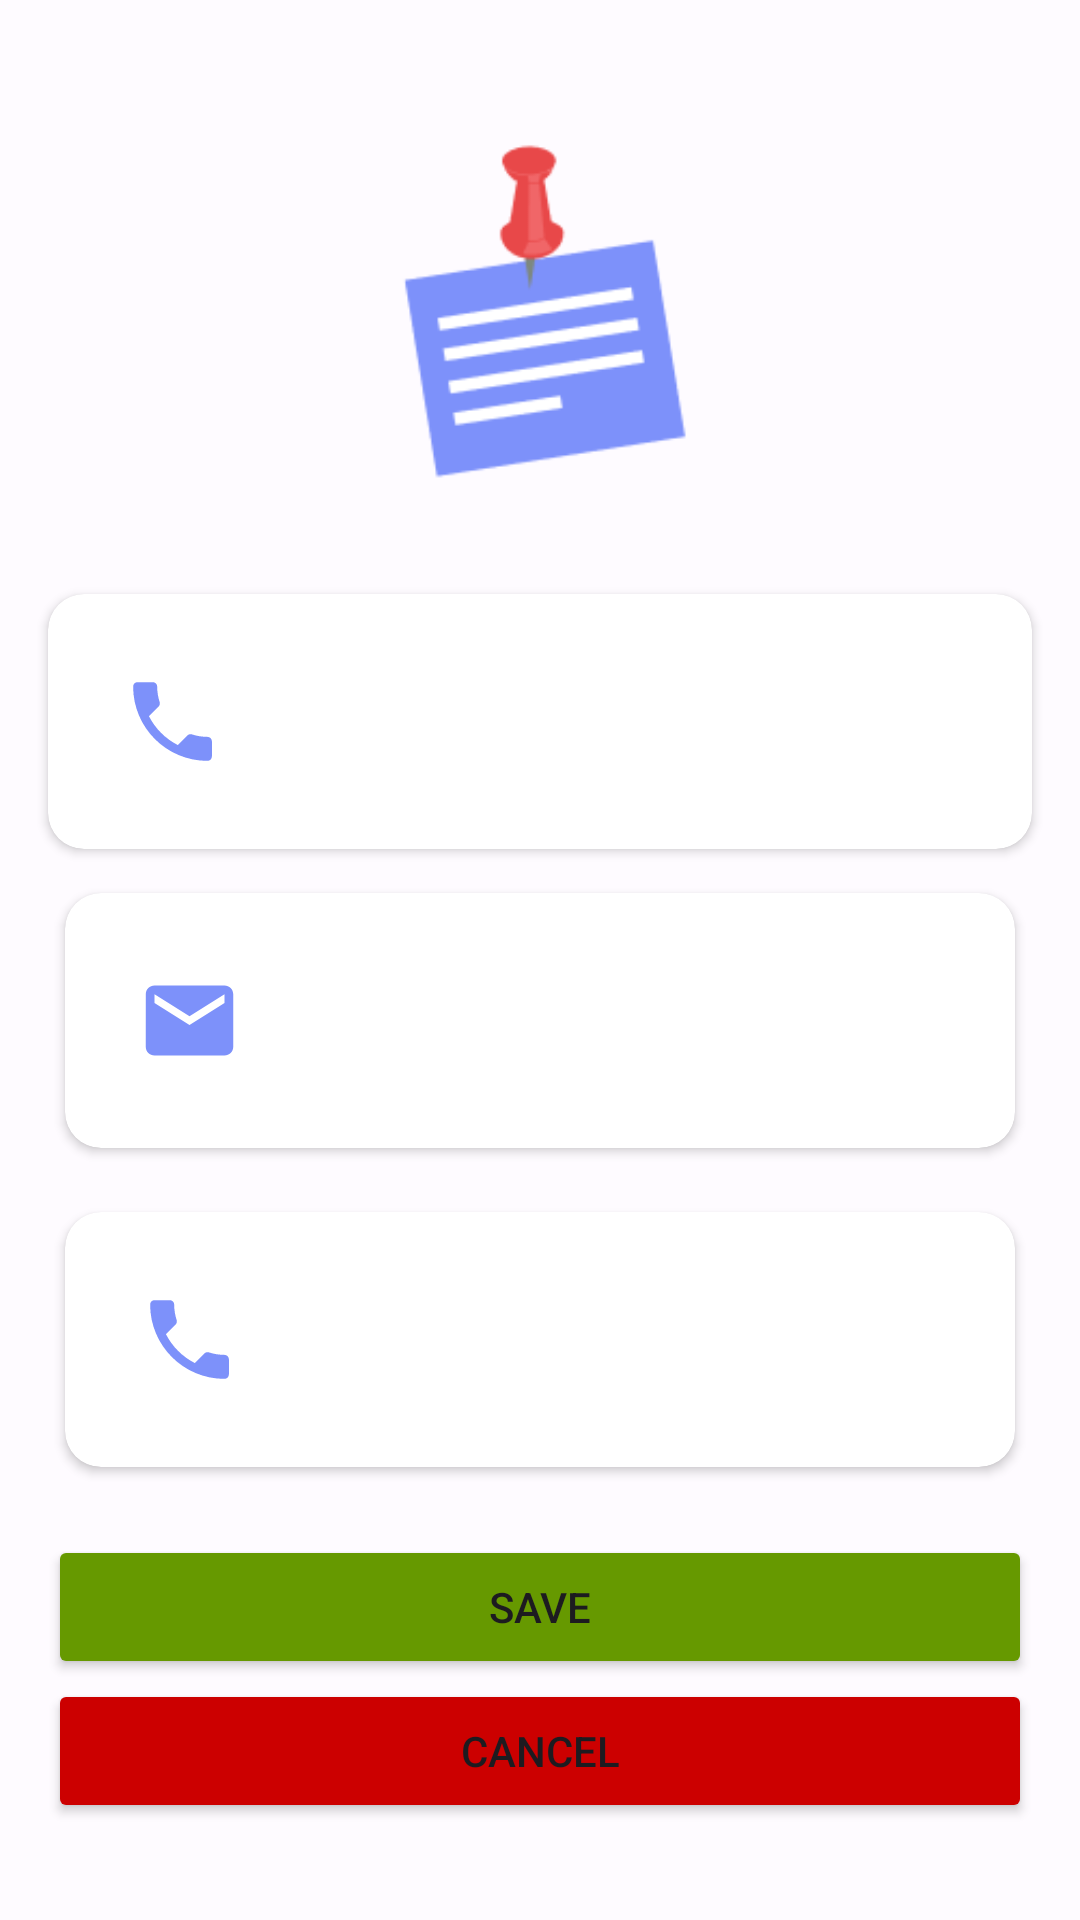

Where to tap for icons on this 1080px×1920px app screen, as point (x, y):
note: point (545, 311)
